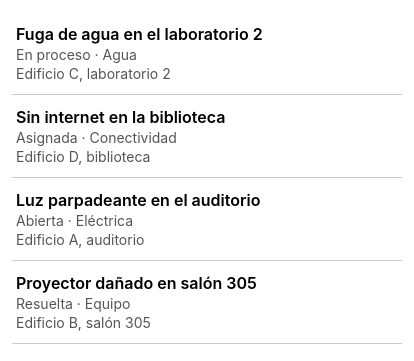
Test: el error de detail no filtra datos en pantalla ni en el registro
This screenshot has width=414, height=361.
Click the text "Fuga de agua en el laboratorio 2".
click(139, 34)  # box [16,24,263,44]
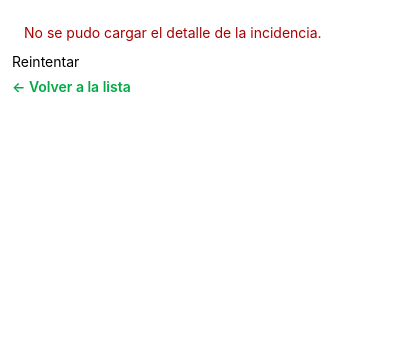
expect the text "No se pudo cargar el detalle de la incidencia." is shown: met, box [24,24,322,41]
